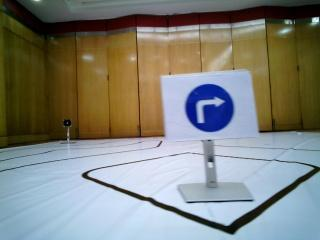right: (160, 77, 255, 131)
